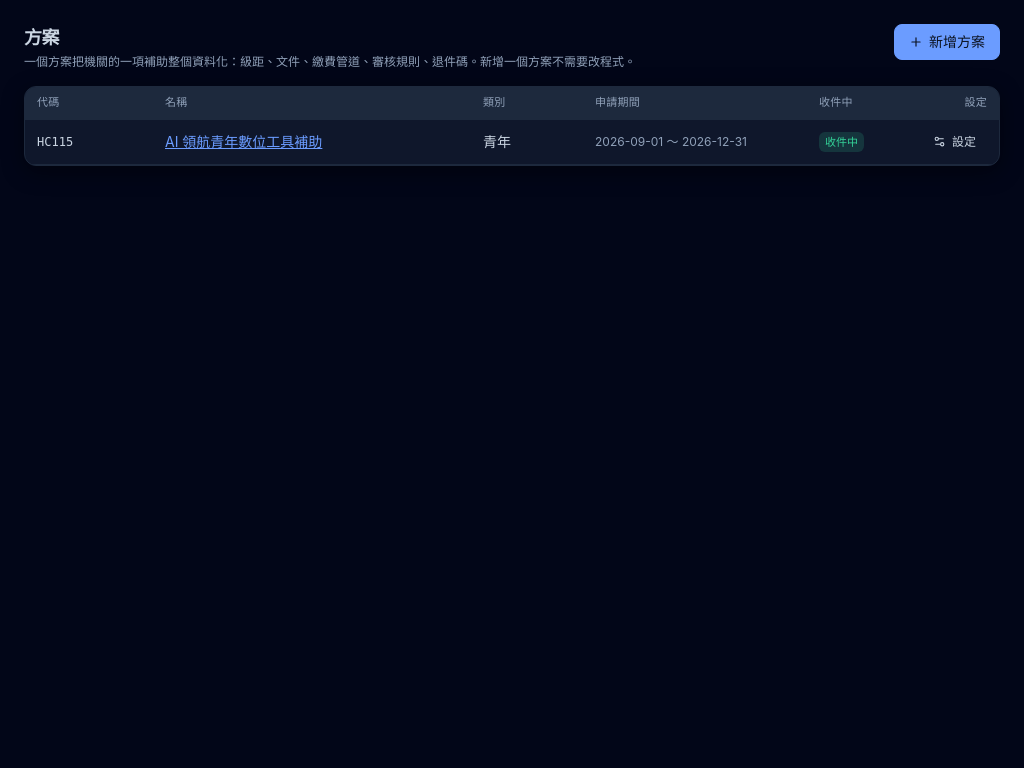
方案清單 › 代碼沒填就不會送出
Click the button "新增方案".
click(947, 42)  # box [894,24,1000,60]
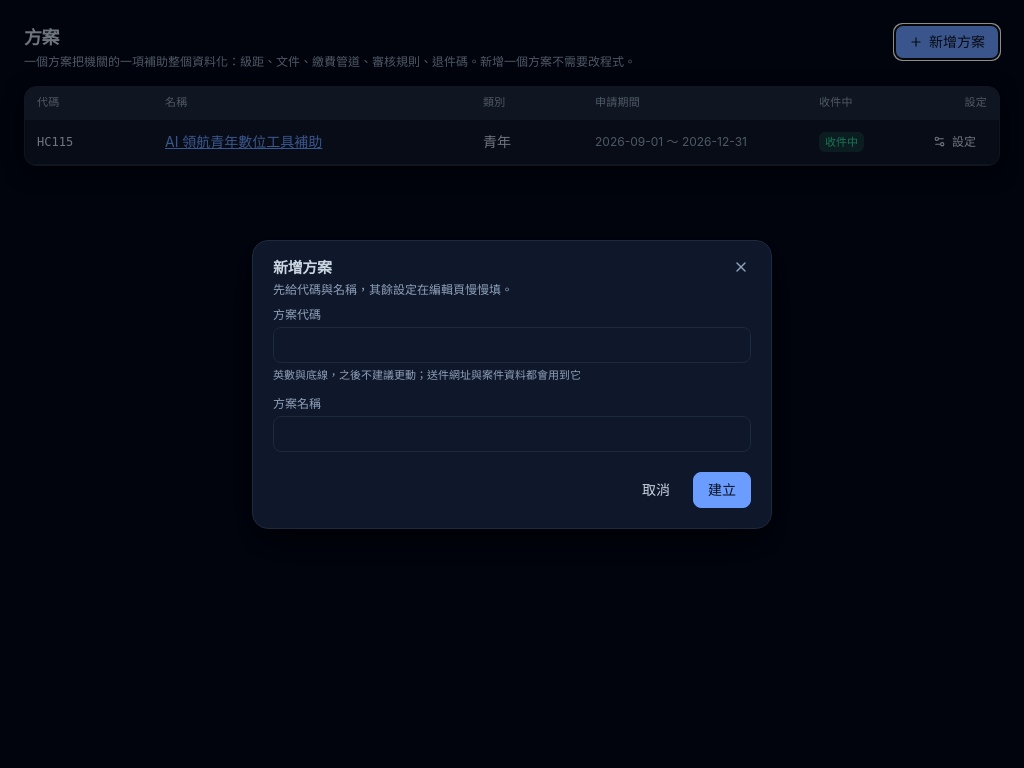
Click the button "建立".
click(722, 490)  # box [693,472,751,508]
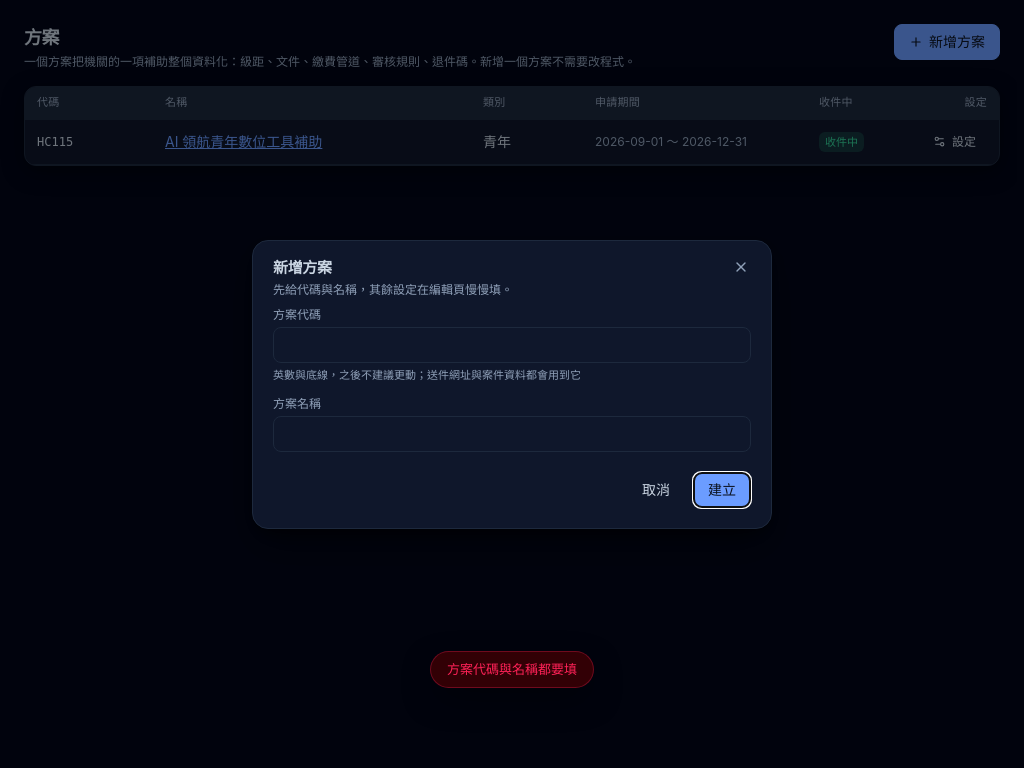
Result: the text "方案代碼與名稱都要填" is shown at [430,650,594,688]
